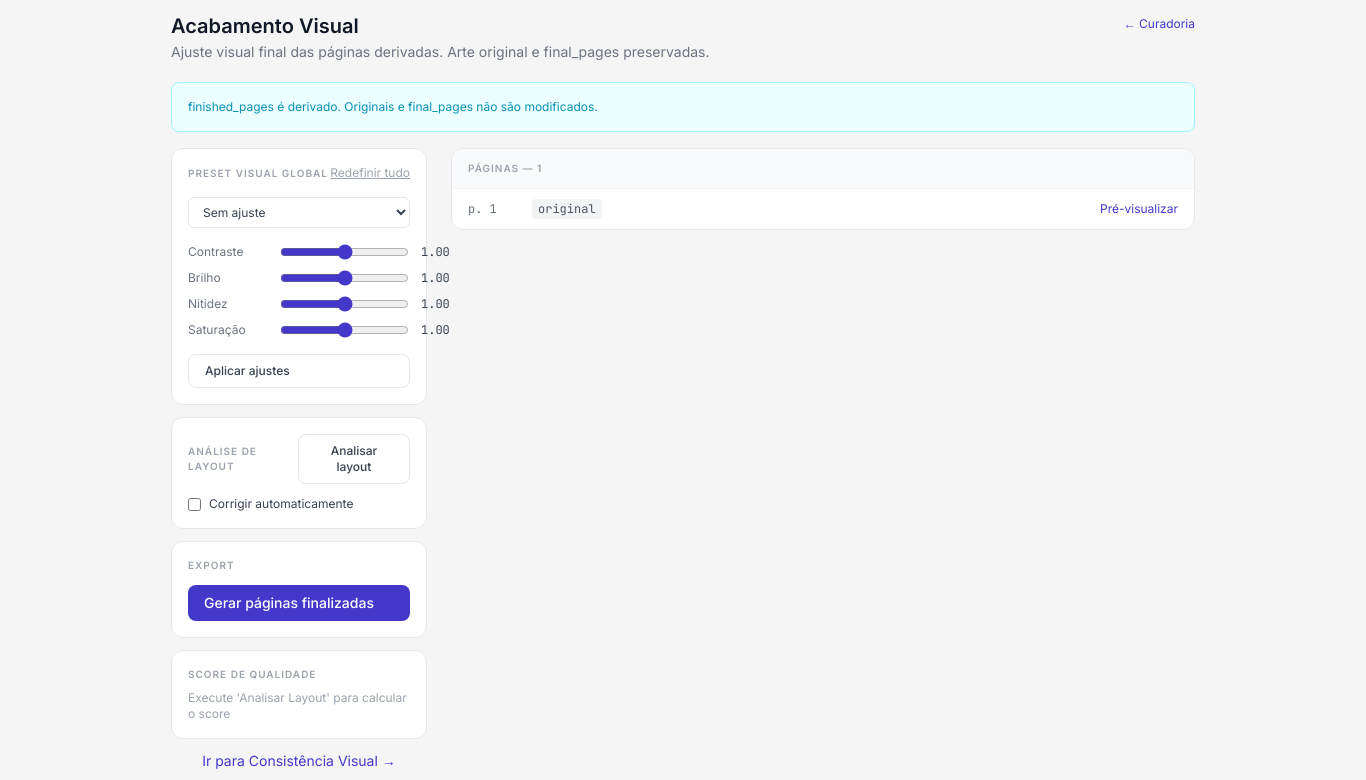
Test: ComicFinishPage — Fase N.A › clicar em "Pré-visualizar" abre painel com botões Antes/Depois
This screenshot has width=1366, height=780.
Click the button with aria-label "Pré-visualizar 1" at {"x": 1139, "y": 209}, box [1100,201,1178,217]
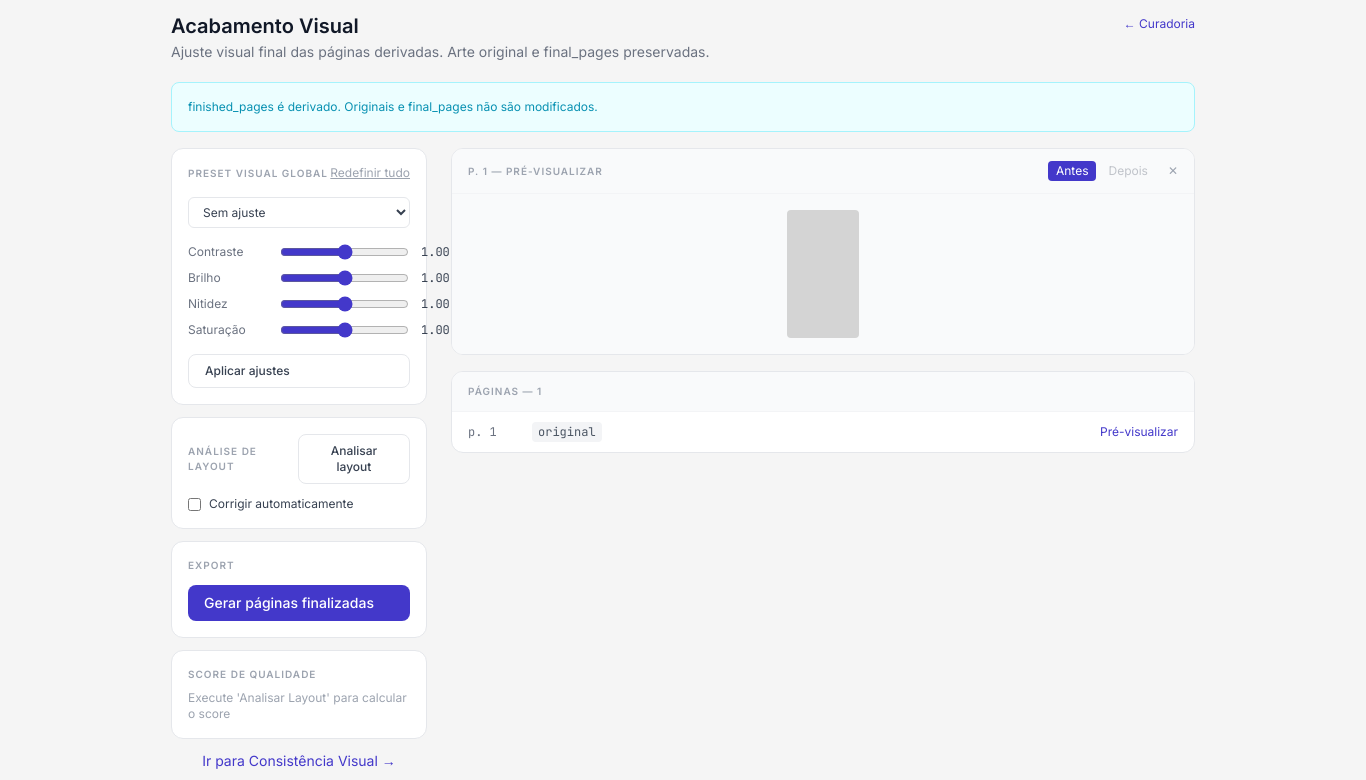
Result: the button "Antes" is shown at [1048,161,1096,181]
Result: the button "Depois" is shown at [1100,161,1156,181]
